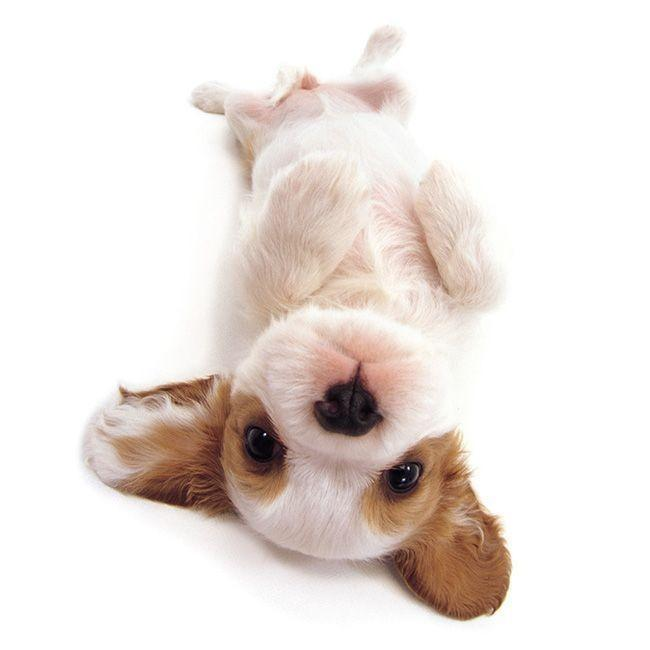puppy-dog: (78, 19, 515, 623)
